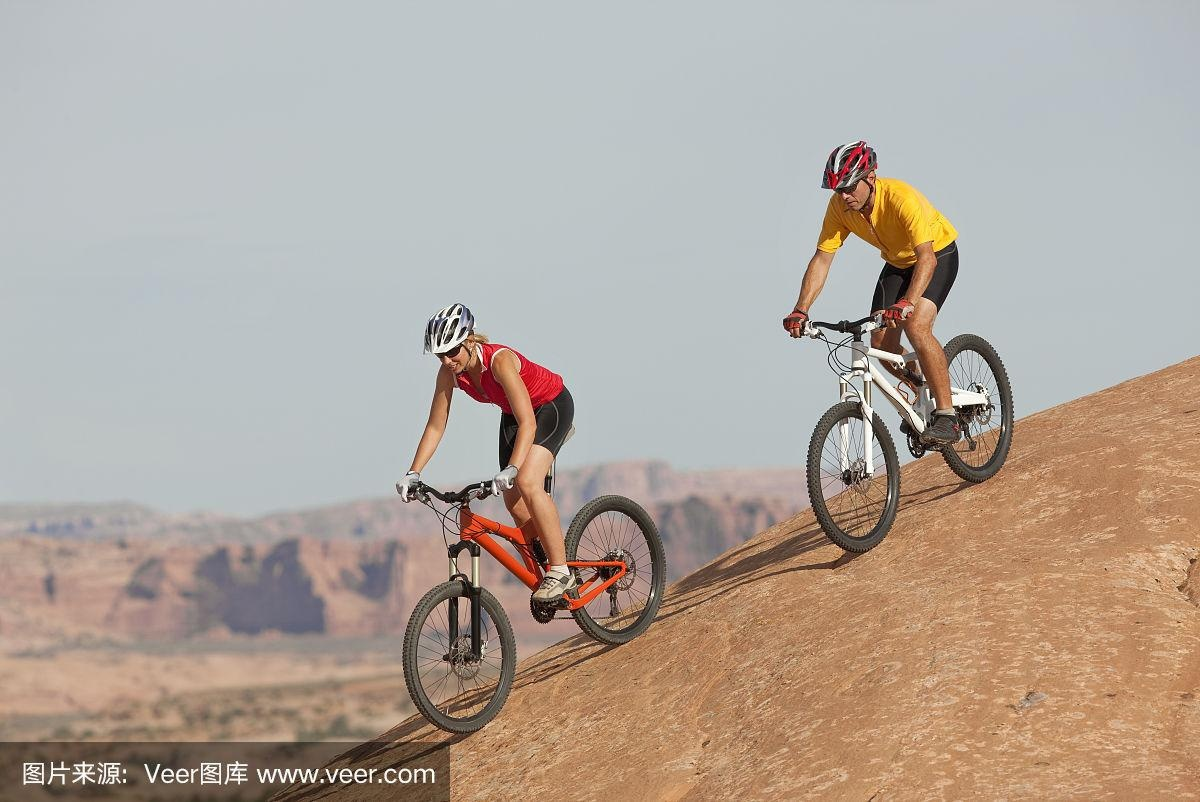non-vehicle: (403, 485, 653, 726), (788, 286, 1015, 522)
